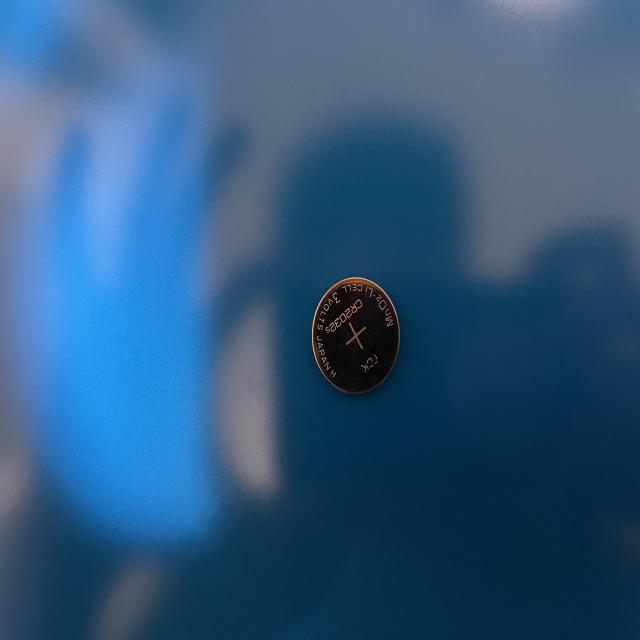COIN: (310, 275, 400, 398)
